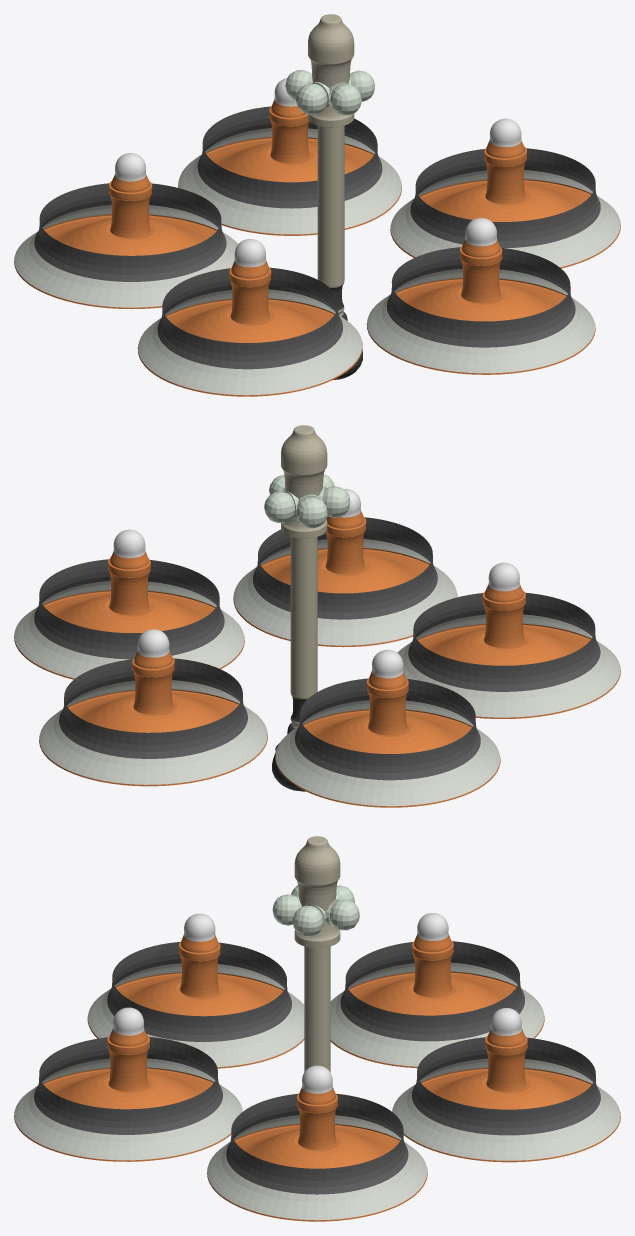
Rendered from Chandelier.fbx.
3 views of the same model, one above another, from view 1: azimuth 30°, elevation 25°; view 2: azimuth 150°, elevation 25°; view 3: azimuth 270°, elevation 25° (orthographic).
Parts seen in each view (by area): view 1: Cube.001, Cylinder, Cube; view 2: Cube.001, Cylinder, Cube; view 3: Cube.001, Cylinder, Cube.
Part boxes in pixels (x1,y1,x2,y2): Cube.001: (14,78,620,396); Cylinder: (308,14,362,380); Cube: (285,70,374,115); Cube.001: (14,489,620,807); Cylinder: (272,425,327,791); Cube: (264,474,350,528); Cube.001: (14,913,620,1221); Cylinder: (294,836,340,1072); Cube: (272,885,359,936).
Bounding box in the file's own units: 1194 × 789 × 1229.
